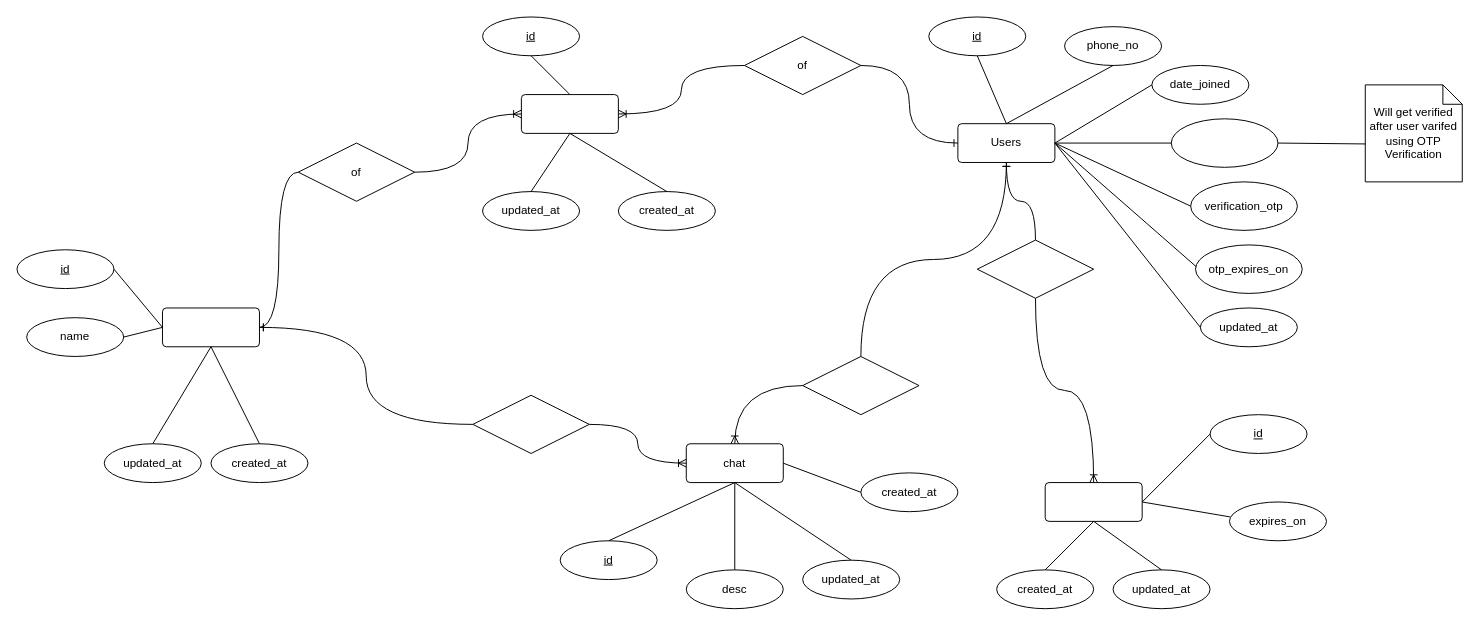
Some shapes in this 1479 by 626 pixel diagram are drawn without their labels. The shapes that lost their labels are listed below. From the top down, each one's centre as x and y in pixels, then its label:
At (569,113): "Subscription".
At (1224,142): "is_valid_number".
At (1035,268): "has".
At (210,327): "Category".
At (860,385): "done_by".
At (530,423): "belongs_to".
At (1093,501): "Session".
